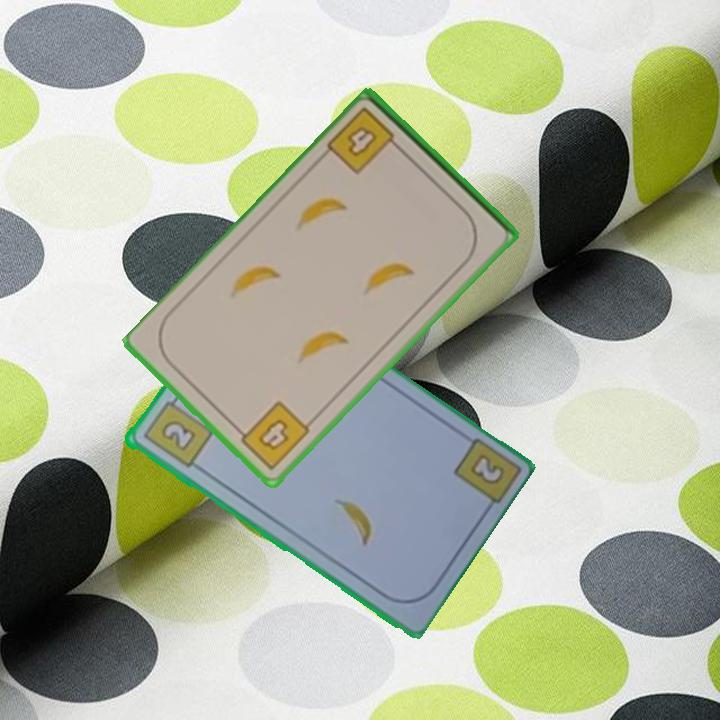2b: (139, 391, 215, 471), (469, 453, 504, 485)
4b: (232, 397, 313, 474), (324, 103, 406, 178)
